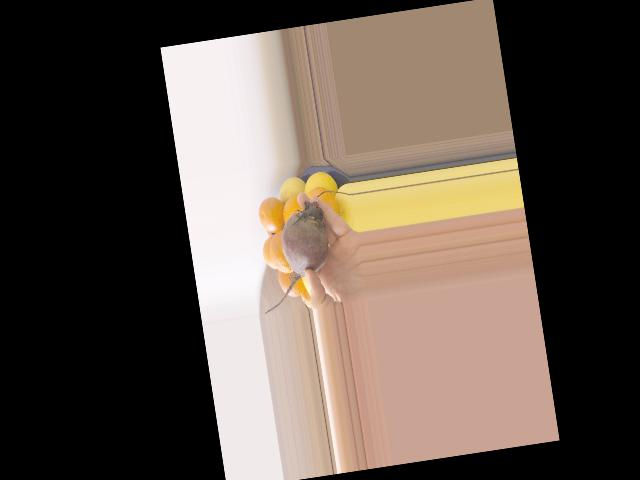beet: (249, 200, 337, 313)
